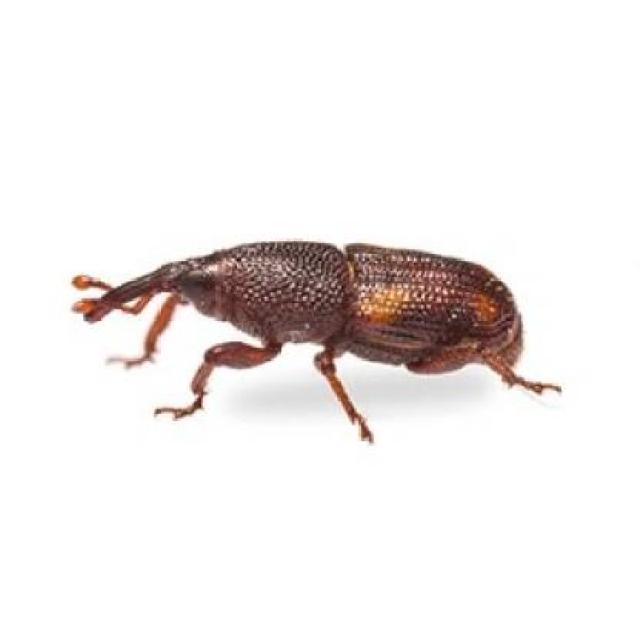rice-bug: (74, 238, 534, 378)
